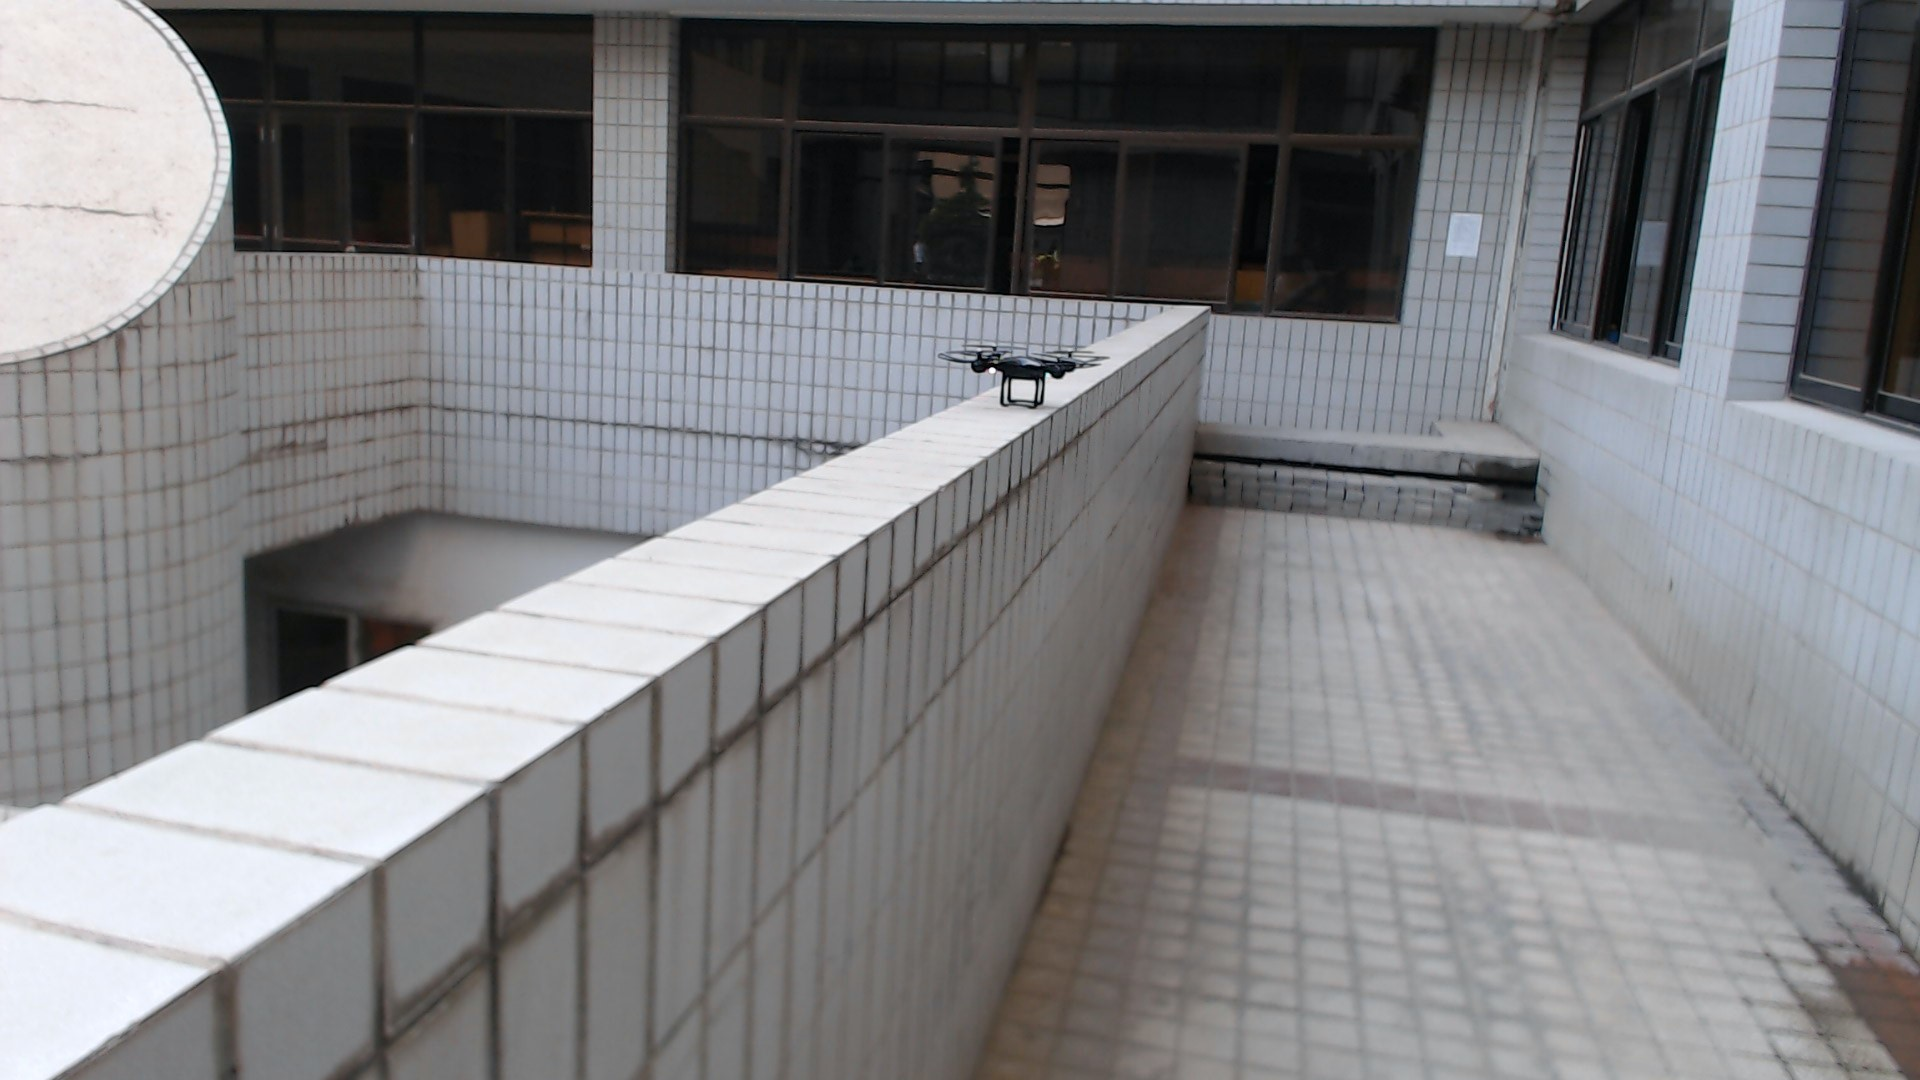drone: (934, 314, 1113, 422)
